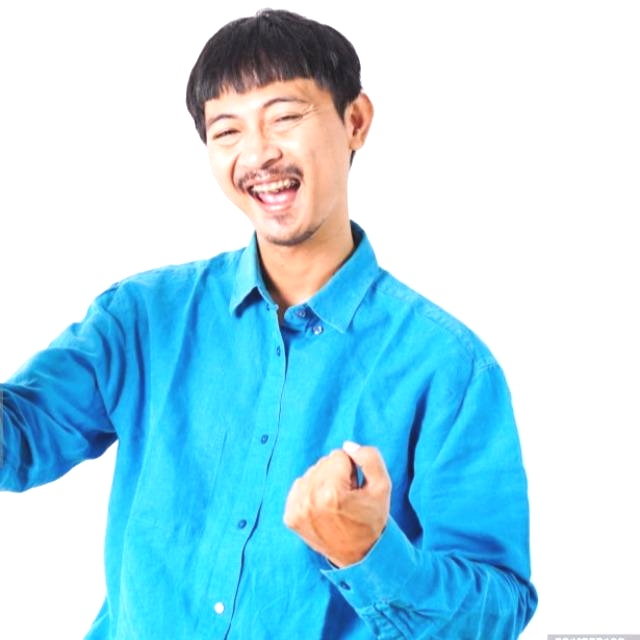Sin_Casco_Mascarrilla: (184, 8, 375, 248)
Sin_Chaleco: (104, 253, 475, 640)
